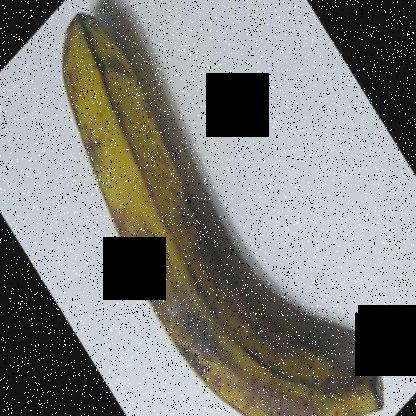overripe: (55, 6, 392, 416)
